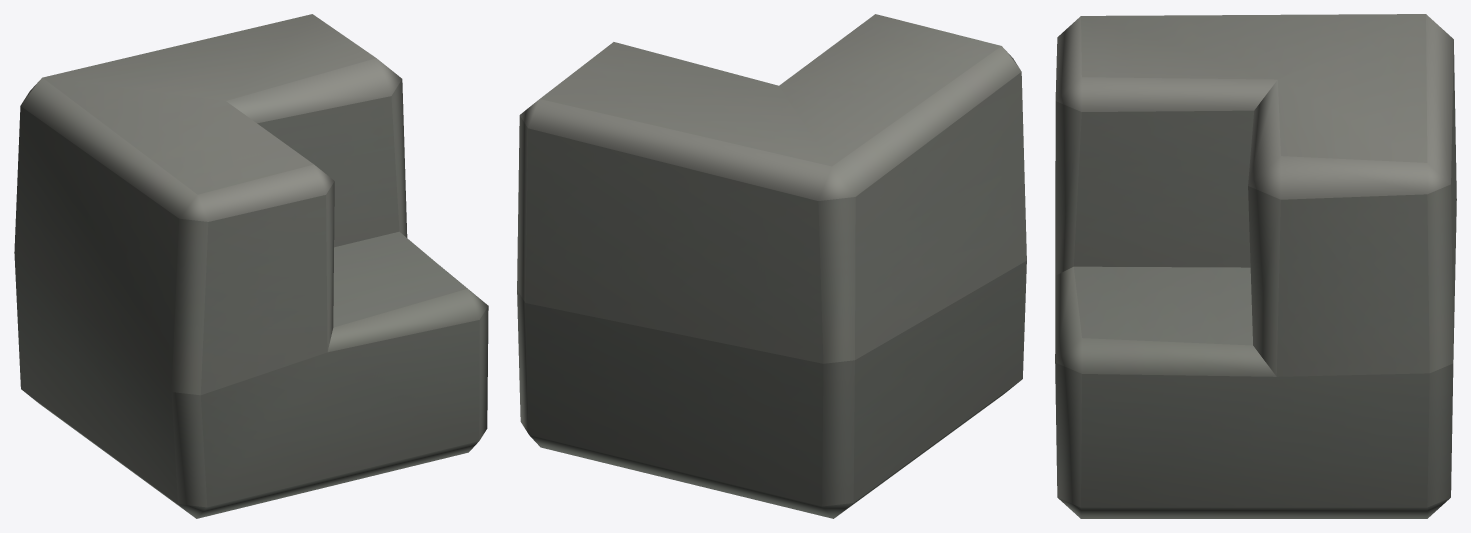
File: stair_corner_conc_shade_2.fbx
The picture shows the model from 3 angles, left to right: view 1: azimuth 30°, elevation 25°; view 2: azimuth 150°, elevation 25°; view 3: azimuth 270°, elevation 25°; orthographic projection. The views are drawn at different scales.
Visible parts, largest first — view 1: stair_corner_conc_shade_2; view 2: stair_corner_conc_shade_2; view 3: stair_corner_conc_shade_2.
Boxes of the visible parts, x1=… form: stair_corner_conc_shade_2: x1=14, y1=14, x2=488, y2=518; stair_corner_conc_shade_2: x1=517, y1=14, x2=1026, y2=518; stair_corner_conc_shade_2: x1=1055, y1=14, x2=1456, y2=518.
Size of the model in its own units: 52.26 by 50.74 by 51.02.
